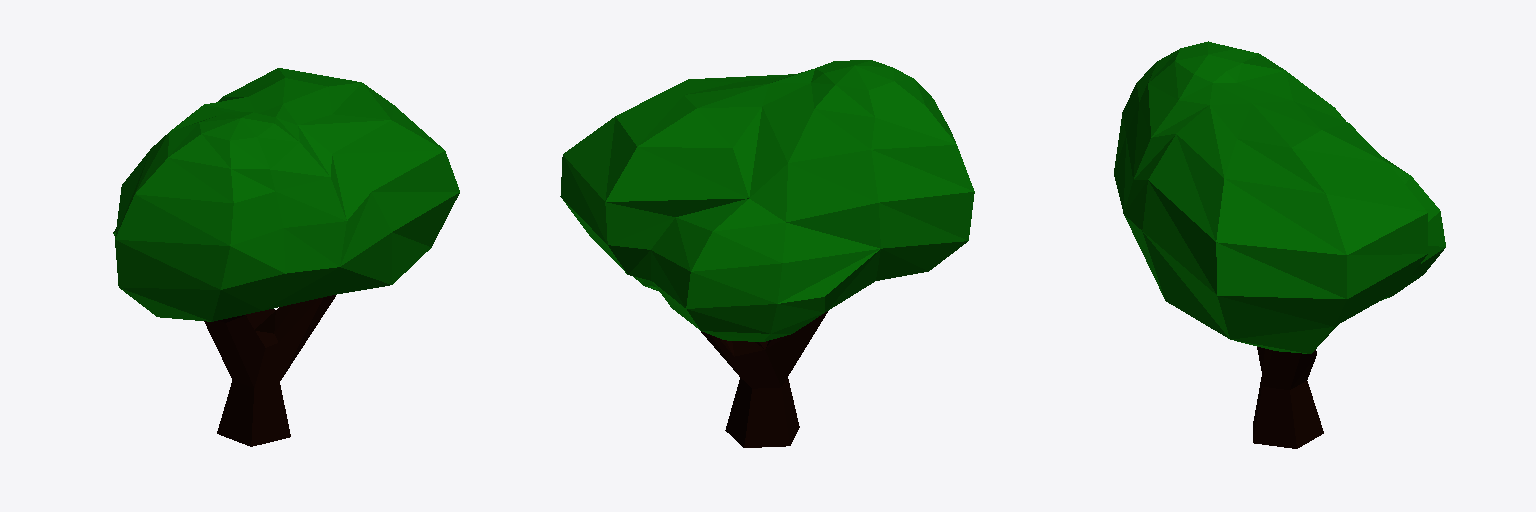
Rendered from bush_tree.obj.
The picture shows the model from 3 angles: view 1: azimuth 30°, elevation 25°; view 2: azimuth 150°, elevation 25°; view 3: azimuth 270°, elevation 25°; orthographic projection.
Parts seen in each view (by area): view 1: tree_Circle.001; view 2: tree_Circle.001; view 3: tree_Circle.001.
Part boxes in pixels (x1,y1,x2,y2): tree_Circle.001: (113,68,459,446); tree_Circle.001: (560,60,974,447); tree_Circle.001: (1114,41,1445,448).
Bounding box in the file's own units: 1.32 × 1.28 × 1.09.